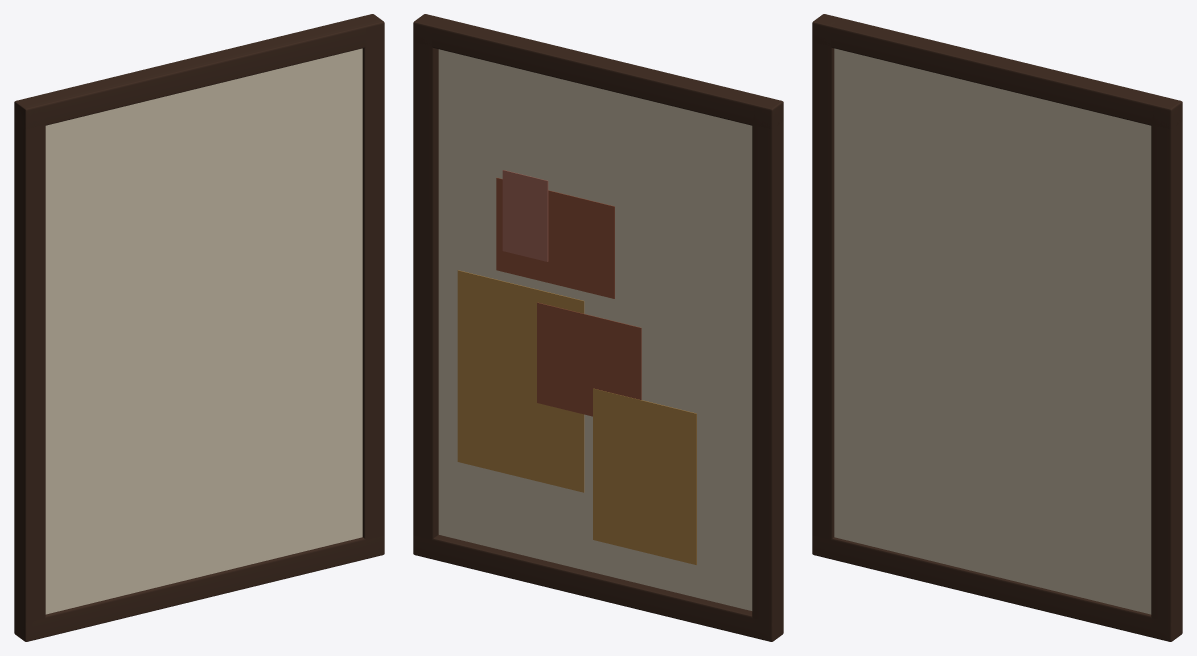
The model's file is prop_wall_art_b.glb.
3 views of the same model, side by side, from view 1: azimuth 30°, elevation 25°; view 2: azimuth 150°, elevation 25°; view 3: azimuth 330°, elevation 25° (orthographic).
Parts seen in each view (by area): view 1: Art; view 2: Art; view 3: Art.
Boxes of the visible parts, box(x1,y1,x2,y2) form: Art: box(14, 14, 384, 641); Art: box(413, 14, 783, 641); Art: box(812, 14, 1182, 641).
Size of the model in its own units: 0.6 by 0.85 by 0.035.
